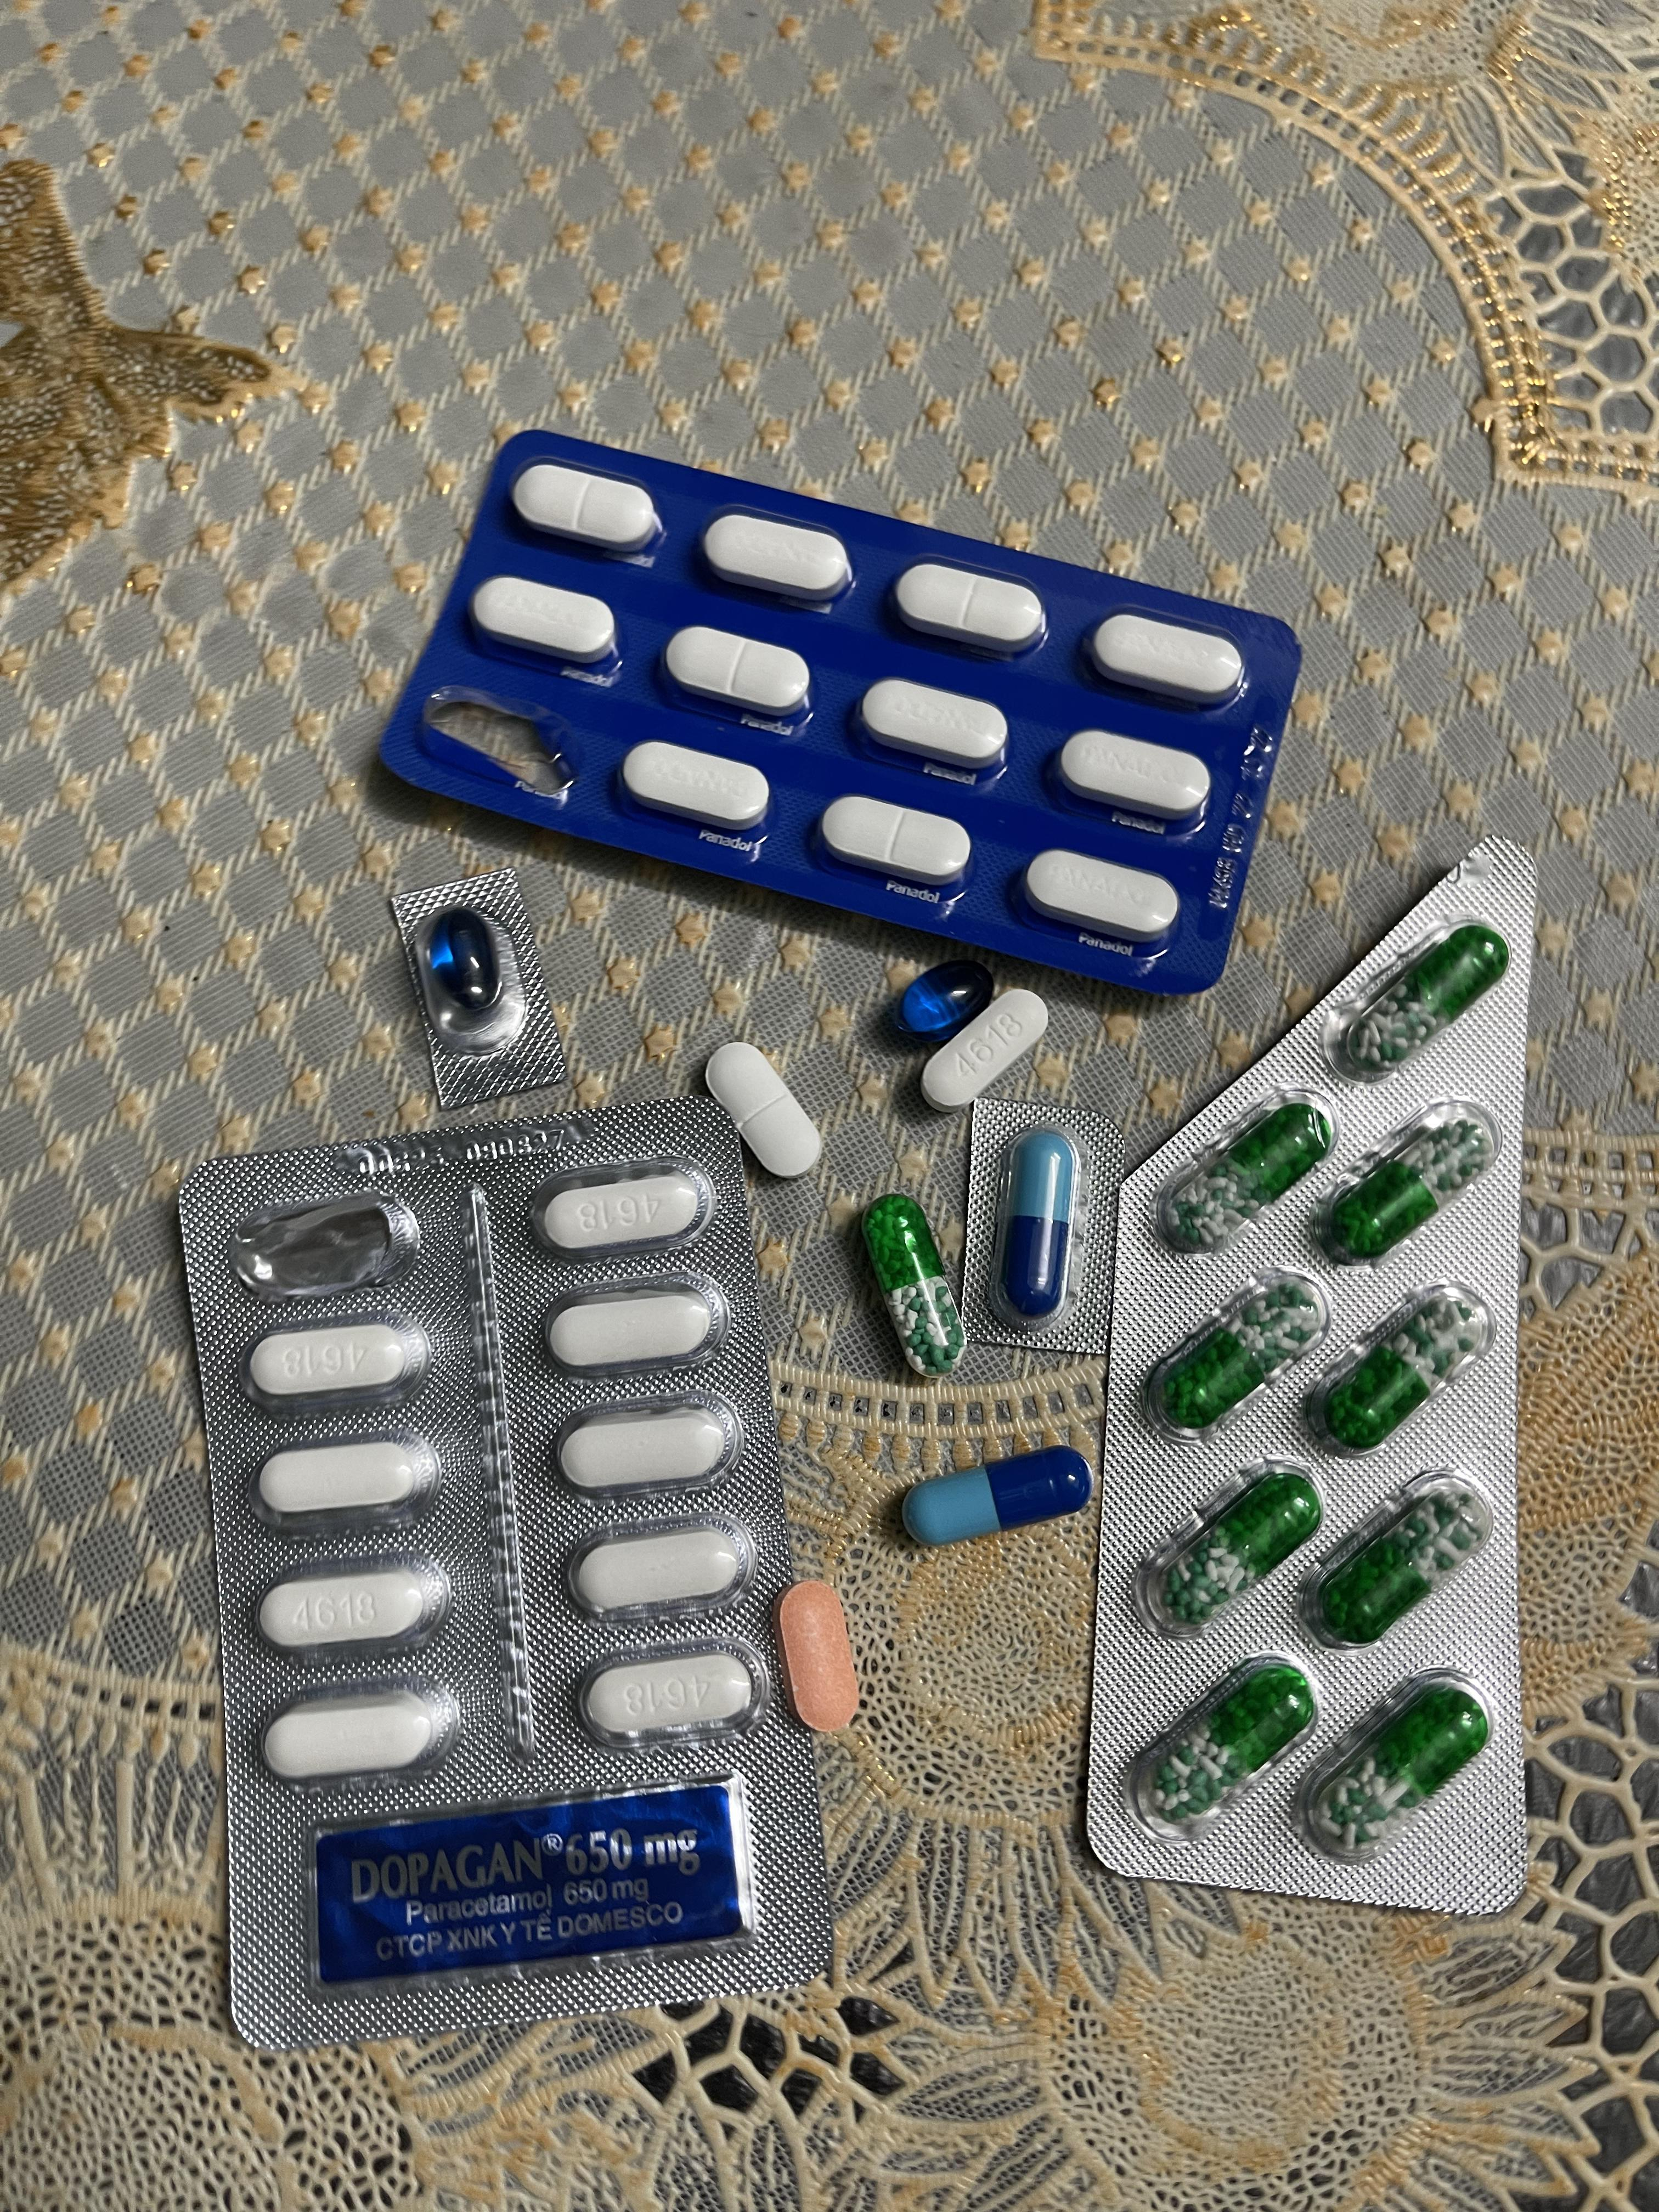Lincomyxin_500mg: (894, 958, 999, 1038), (434, 907, 502, 1008)
Loratadine_10mg: (777, 1580, 861, 1735)
Paracetamol_350mg: (704, 1042, 824, 1170), (856, 678, 1009, 777), (664, 624, 816, 723), (1086, 610, 1243, 705), (894, 563, 1051, 658), (701, 510, 857, 606), (472, 575, 620, 674), (1054, 728, 1206, 824), (511, 460, 662, 556), (819, 796, 974, 887), (1021, 848, 1176, 939), (622, 742, 770, 833)
Paracetamol_500mg: (263, 1681, 457, 1785), (577, 1644, 763, 1750), (566, 1514, 751, 1616), (251, 1437, 437, 1531), (258, 1559, 444, 1653), (558, 1402, 741, 1496), (249, 1317, 432, 1404), (547, 1284, 725, 1371), (917, 986, 1046, 1101), (540, 1169, 706, 1251)
Paracetamol_650mg: (1293, 1669, 1492, 1864), (1295, 1463, 1495, 1641), (1126, 1655, 1310, 1846), (1305, 1285, 1495, 1461), (1143, 1268, 1324, 1447), (1127, 1453, 1307, 1634), (1310, 1101, 1500, 1263), (1159, 1092, 1335, 1251), (1335, 921, 1509, 1071), (859, 1195, 967, 1374)
pill: (992, 1129, 1091, 1331), (903, 1442, 1091, 1548)
